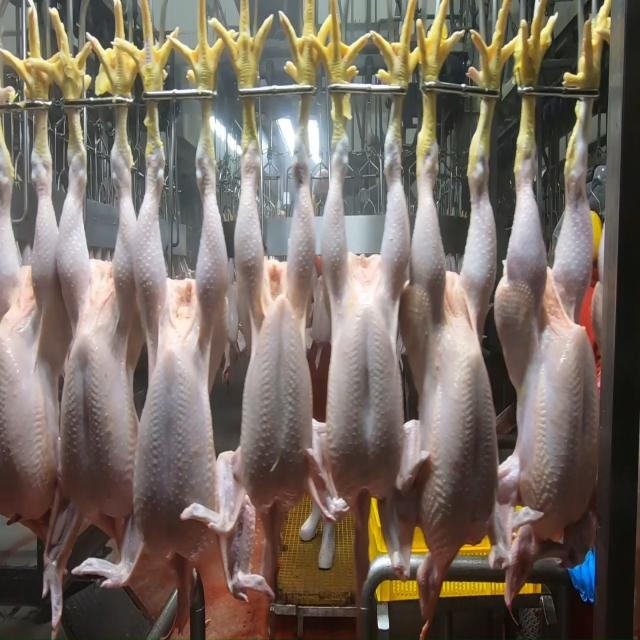chicken: (497, 126, 610, 540), (410, 131, 506, 558), (132, 138, 226, 558), (318, 131, 411, 518), (232, 137, 318, 518), (57, 148, 144, 524), (1, 110, 65, 540)
